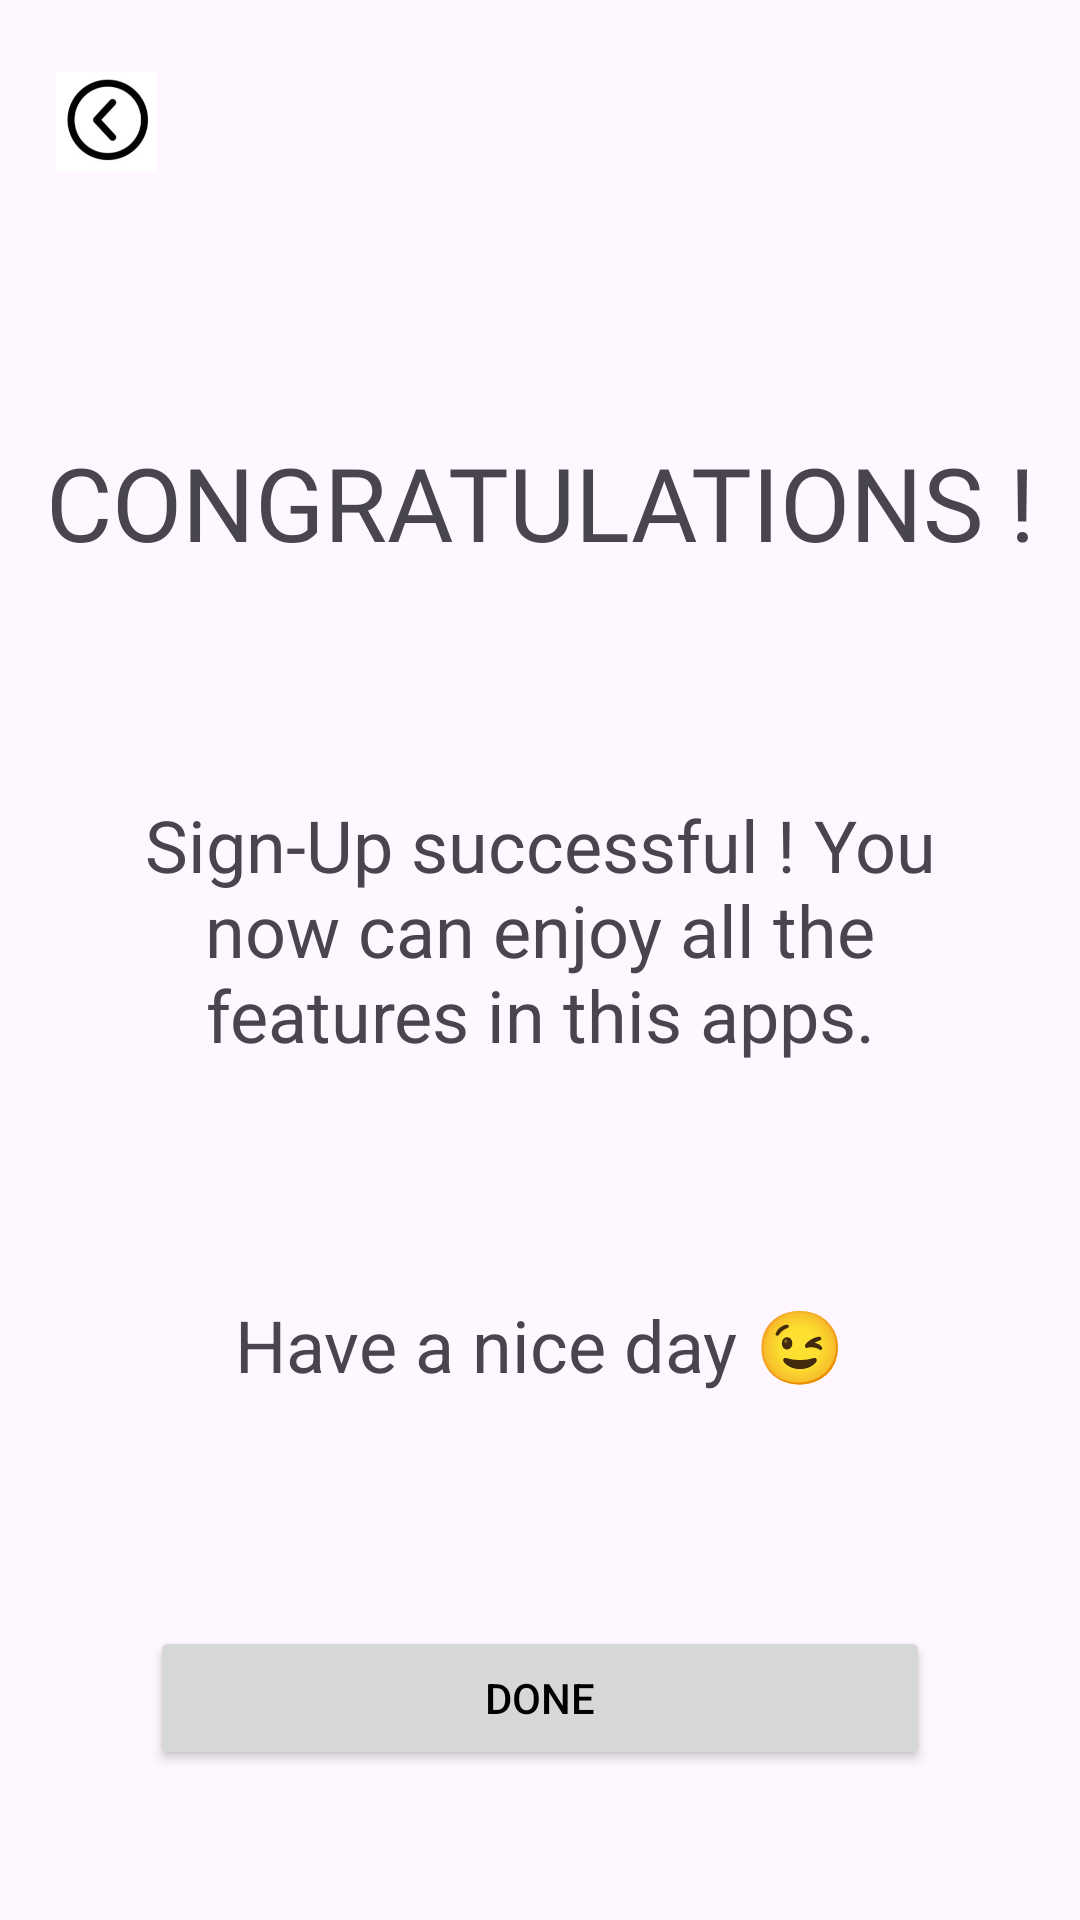

Where to tap for icons on this 1080×1920 app screen, as (x,y):
back: (107,119)
